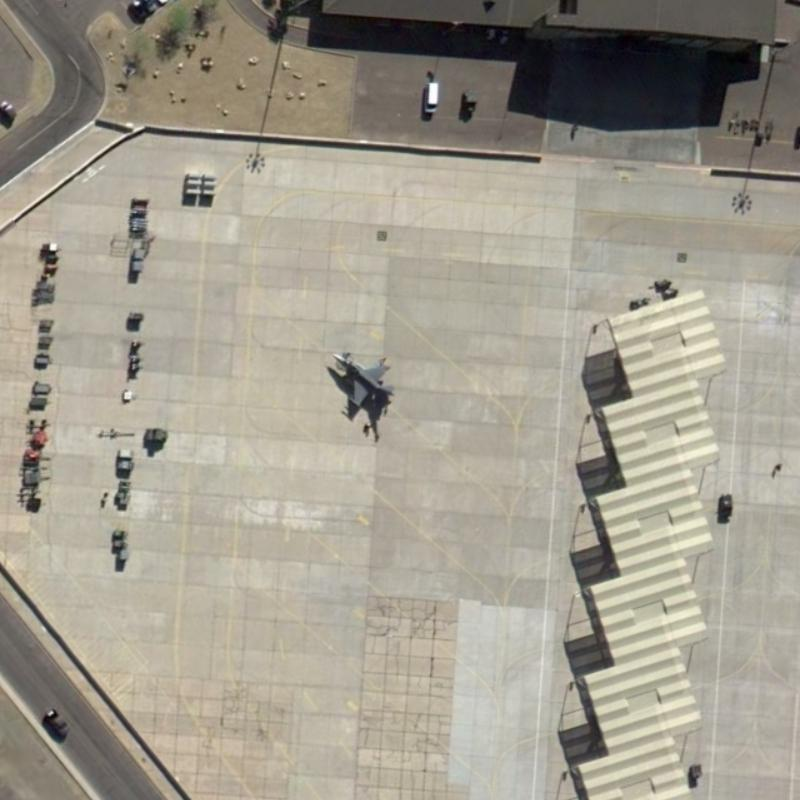A5: (327, 349, 399, 412)
